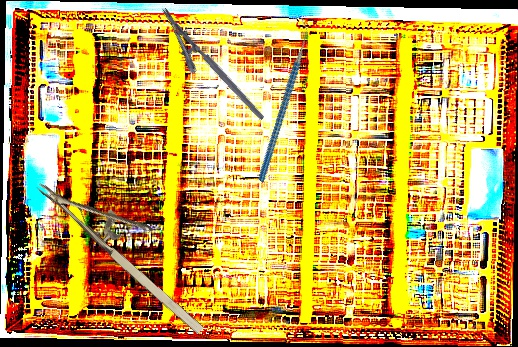Chopper: (209, 17, 355, 183)
Needle Holder: (36, 150, 229, 340), (145, 5, 266, 135)
